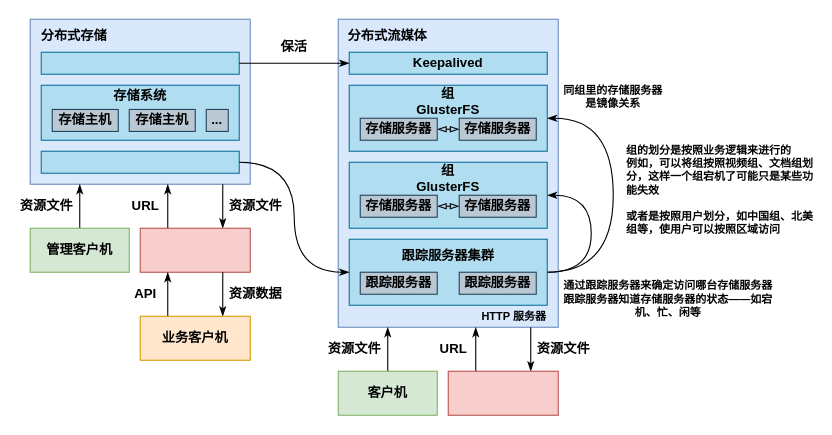
Some shapes in this 832 by 435 pixel diagram are drawn without their labels. Each missing label, with the box of its shape:
HTTP客户机: (447, 370, 558, 415)
仲裁系统: (40, 150, 239, 173)
容灾系统: (40, 51, 239, 74)
应用服务器: (139, 227, 250, 272)
